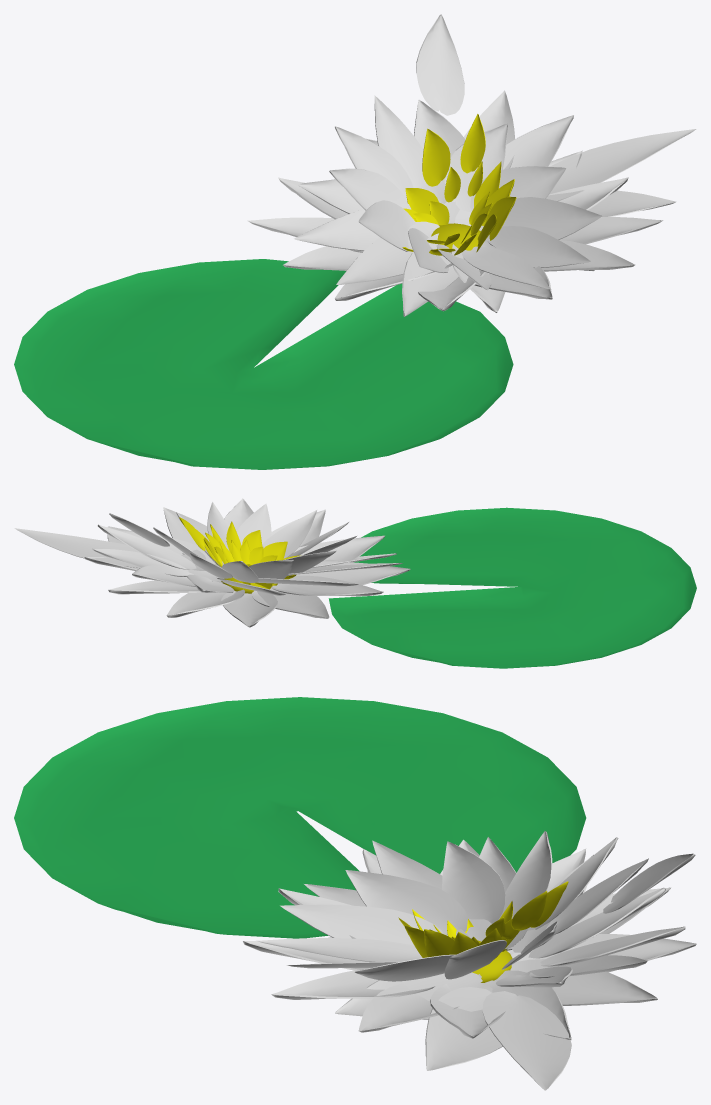
File: LillyPadFlower.fbx
3 views of the same model, one above another, from view 1: azimuth 30°, elevation 25°; view 2: azimuth 150°, elevation 25°; view 3: azimuth 270°, elevation 25° (orthographic). The views are drawn at different scales.
Parts seen in each view (by area): view 1: pDisc1, pCube20 (×3), pCube17 (×4), pCube14 (×3), pCube25 (×2), pCube19 (×3), pCube16 (×3), pCube23 (×2), pCube24 (×2), pCube18 (×3), pCube22 (×2), pCube28 (+6 smaller); view 2: pDisc1, pCube18 (×4), pCube17 (×4), pCube16 (×4), pCube20 (×2), pCube14 (×3), pCube19 (×2), pCube27 (×2), pCube15, pCube24, pCube22 (×2), pCube23 (×2) (+4 smaller); view 3: pDisc1, pCube16 (×5), pCube20 (×3), pCube19 (×3), pCube17 (×4), pCube23 (×3), pCube18 (×3), pCube14 (×2), pCube26, pCube27, pCube25 (×2), pCube21 (+4 smaller).
Part boxes in pixels (left/top/right/bottom): pDisc1: left=14, top=259, right=513, bottom=469; pCube20 (×3): left=470, top=129, right=696, bottom=228; pCube17 (×4): left=374, top=95, right=552, bottom=312; pCube14 (×3): left=283, top=200, right=416, bottom=270; pCube25 (×2): left=416, top=14, right=485, bottom=173; pCube19 (×3): left=335, top=221, right=452, bottom=300; pCube16 (×3): left=278, top=126, right=634, bottom=271; pCube23 (×2): left=502, top=190, right=675, bottom=239; pCube24 (×2): left=444, top=115, right=573, bottom=211; pCube18 (×3): left=402, top=90, right=514, bottom=316; pCube22 (×2): left=297, top=168, right=411, bottom=213; pCube28: left=481, top=226, right=590, bottom=267; pDisc1: left=328, top=507, right=696, bottom=668; pCube18 (×4): left=92, top=535, right=396, bottom=594; pCube17 (×4): left=132, top=509, right=325, bottom=617; pCube16 (×4): left=186, top=498, right=277, bottom=627; pCube20 (×2): left=14, top=528, right=223, bottom=581; pCube14 (×3): left=257, top=551, right=383, bottom=596; pCube19 (×2): left=288, top=561, right=410, bottom=585; pCube27 (×2): left=262, top=510, right=316, bottom=560; pCube15: left=251, top=585, right=329, bottom=618; pCube24: left=97, top=524, right=196, bottom=569; pCube22 (×2): left=217, top=559, right=293, bottom=595; pCube23 (×2): left=207, top=502, right=241, bottom=554; pDisc1: left=14, top=697, right=586, bottom=938; pCube16 (×5): left=271, top=837, right=671, bottom=1019; pCube20 (×3): left=430, top=940, right=571, bottom=1090; pCube19 (×3): left=345, top=840, right=571, bottom=1039; pCube17 (×4): left=243, top=858, right=696, bottom=972; pCube23 (×3): left=355, top=929, right=502, bottom=1070; pCube18 (×3): left=304, top=884, right=657, bottom=1005; pCube14 (×2): left=442, top=837, right=527, bottom=949; pCube26: left=280, top=904, right=443, bottom=945; pCube27: left=256, top=938, right=422, bottom=961; pCube25 (×2): left=511, top=853, right=695, bottom=930; pCube21: left=358, top=983, right=458, bottom=1032.
Bounding box in the file's own units: 3.5 × 0.6787 × 2.39.
